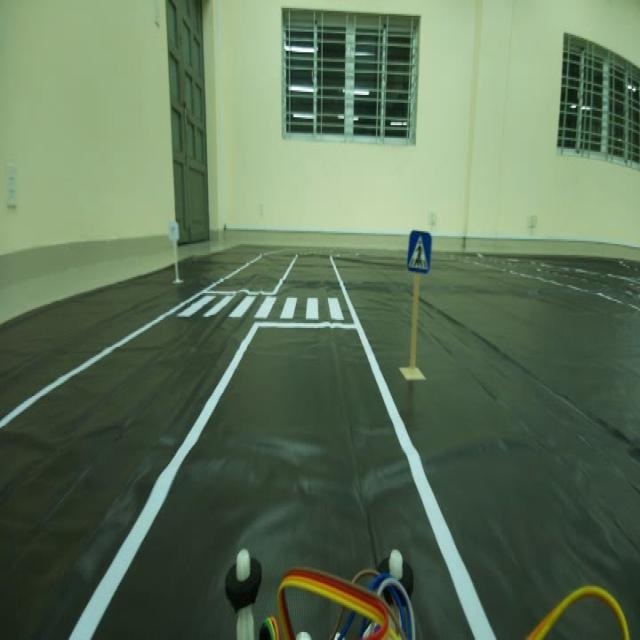crosswalk: (403, 222, 433, 280)
